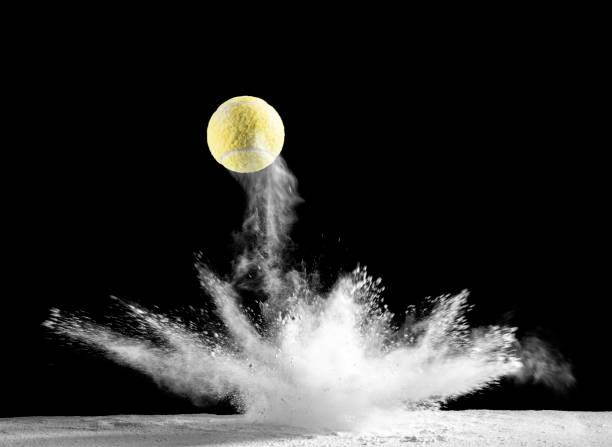ball_tennis: (206, 95, 285, 173)
